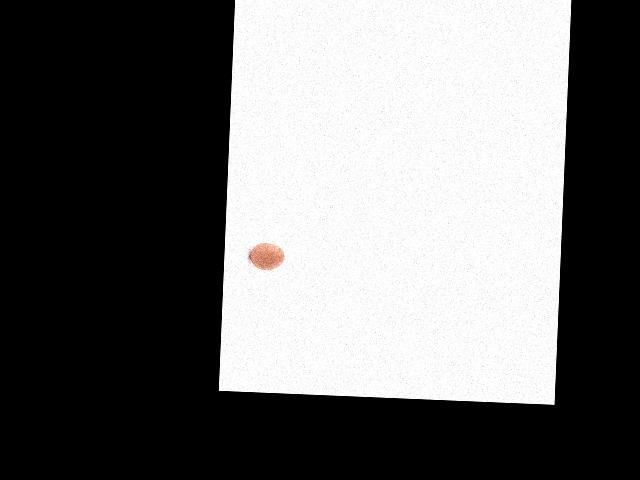egg: (249, 242, 284, 271)
